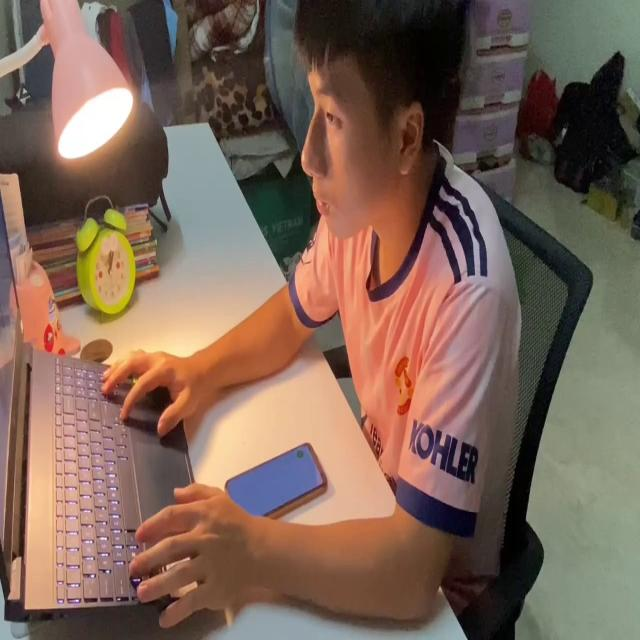laptop: (0, 176, 222, 621)
phone: (220, 434, 330, 516)
student: (98, 0, 524, 625)
